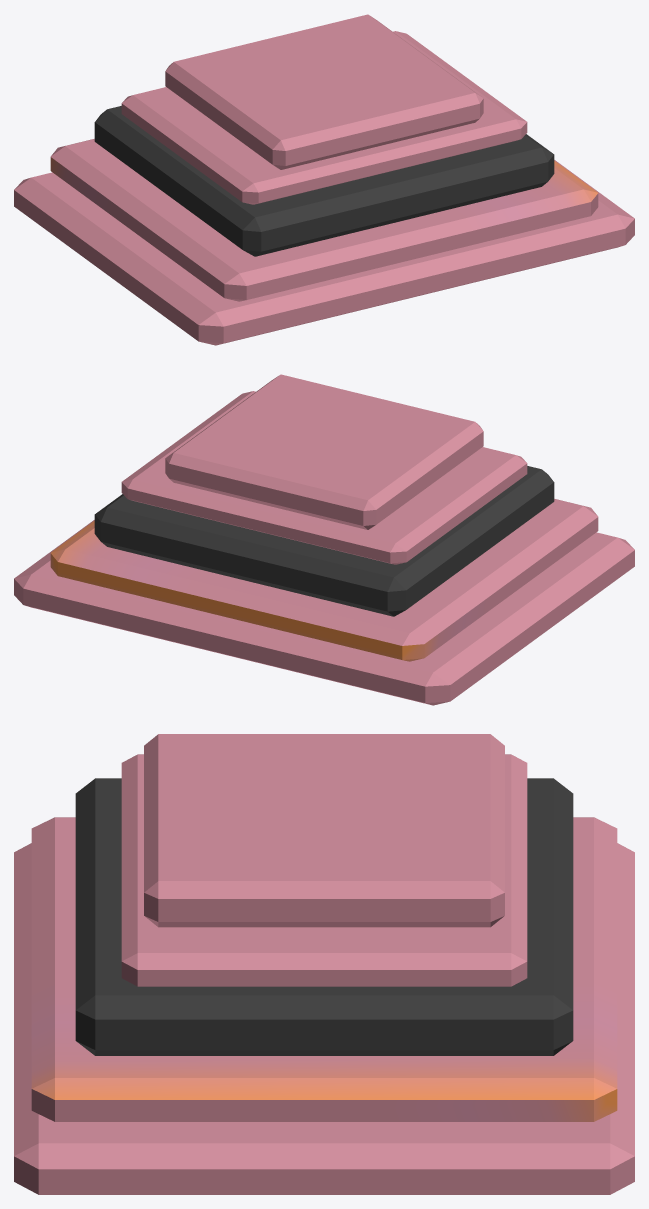
Rendered from Garage_Towels.fbx.
The picture shows the model from 3 angles, top to bottom: view 1: azimuth 30°, elevation 25°; view 2: azimuth 150°, elevation 25°; view 3: azimuth 270°, elevation 25°; orthographic projection. The views are drawn at different scales.
Parts seen in each view (by area): view 1: Garage_Towels; view 2: Garage_Towels; view 3: Garage_Towels.
Part boxes in pixels (x1,y1,x2,y2): Garage_Towels: [14, 14, 634, 345]; Garage_Towels: [14, 374, 634, 705]; Garage_Towels: [14, 734, 634, 1194].
Size of the model in its own units: 34.96 by 11.61 by 27.8.
